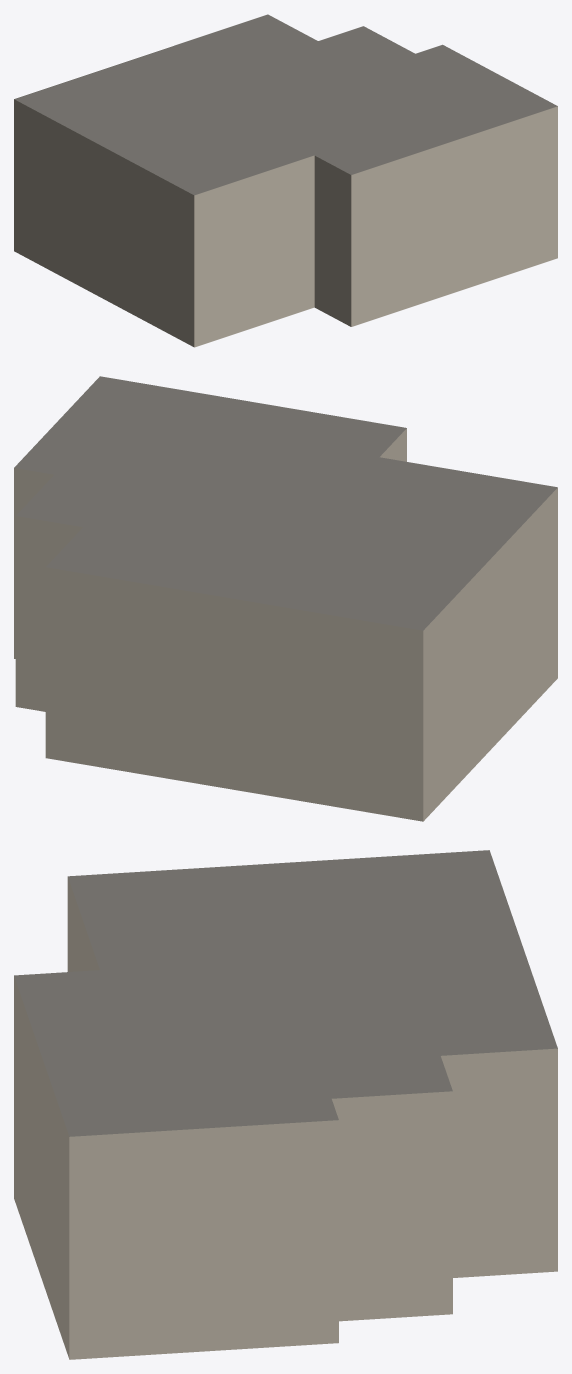
3 views of the same model, one above another, from view 1: azimuth 30°, elevation 25°; view 2: azimuth 150°, elevation 25°; view 3: azimuth 270°, elevation 25° (orthographic). The views are drawn at different scales.
Parts seen in each view (by area): view 1: HP-w731233908; view 2: HP-w731233908; view 3: HP-w731233908.
Boxes of the visible parts, bbox=[...] form: HP-w731233908: bbox=[14, 14, 557, 347]; HP-w731233908: bbox=[14, 376, 557, 821]; HP-w731233908: bbox=[14, 850, 557, 1359].
Size of the model in its own units: 49.63 by 18 by 39.79.
